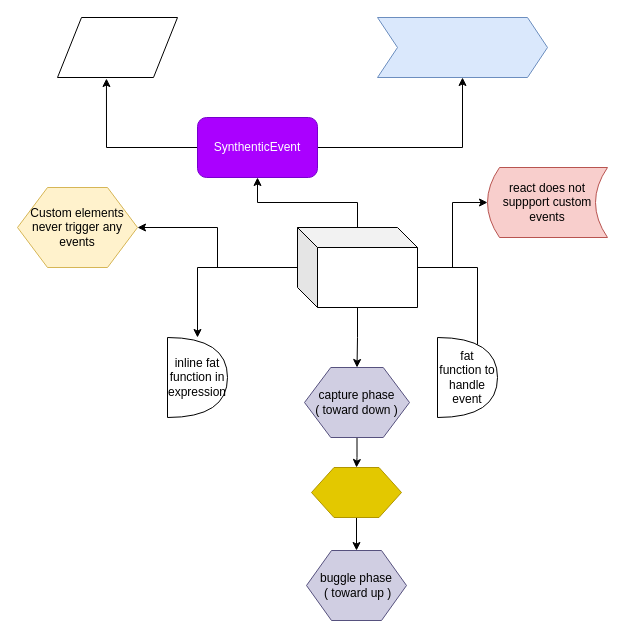
Some shapes in this 625 by 638 pixel diagram are drawn without their labels. The centre of each missing label's shape, as x and y in pixels:
"event types" belongs at (x=117, y=47).
"persist to access event attributes in setState()" belongs at (x=462, y=47).
"React Events" belongs at (x=357, y=267).
"target phase" belongs at (x=356, y=492).
